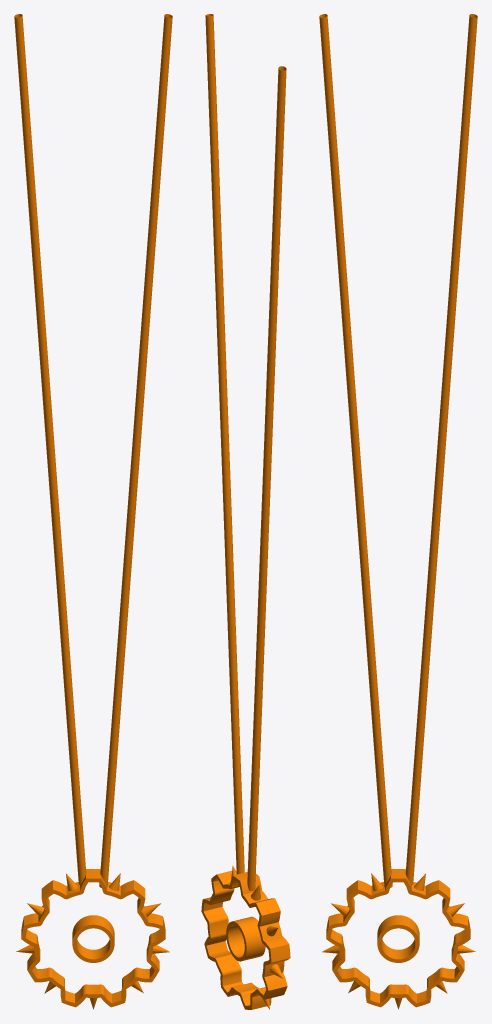
The model's file is cutter6_gear.fbx.
The picture shows the model from 3 angles, left to right: view 1: azimuth 90°, elevation 25°; view 2: azimuth 210°, elevation 25°; view 3: azimuth 270°, elevation 25°; orthographic projection. The views are drawn at different scales.
Visible parts, largest first — view 1: Cutter6_Gear; view 2: Cutter6_Gear; view 3: Cutter6_Gear.
Boxes of the visible parts, <box> form: Cutter6_Gear: <box>14,14,172,1009</box>; Cutter6_Gear: <box>201,14,290,1009</box>; Cutter6_Gear: <box>319,14,477,1009</box>.
Size of the model in its own units: 16.87 by 815 by 118.
